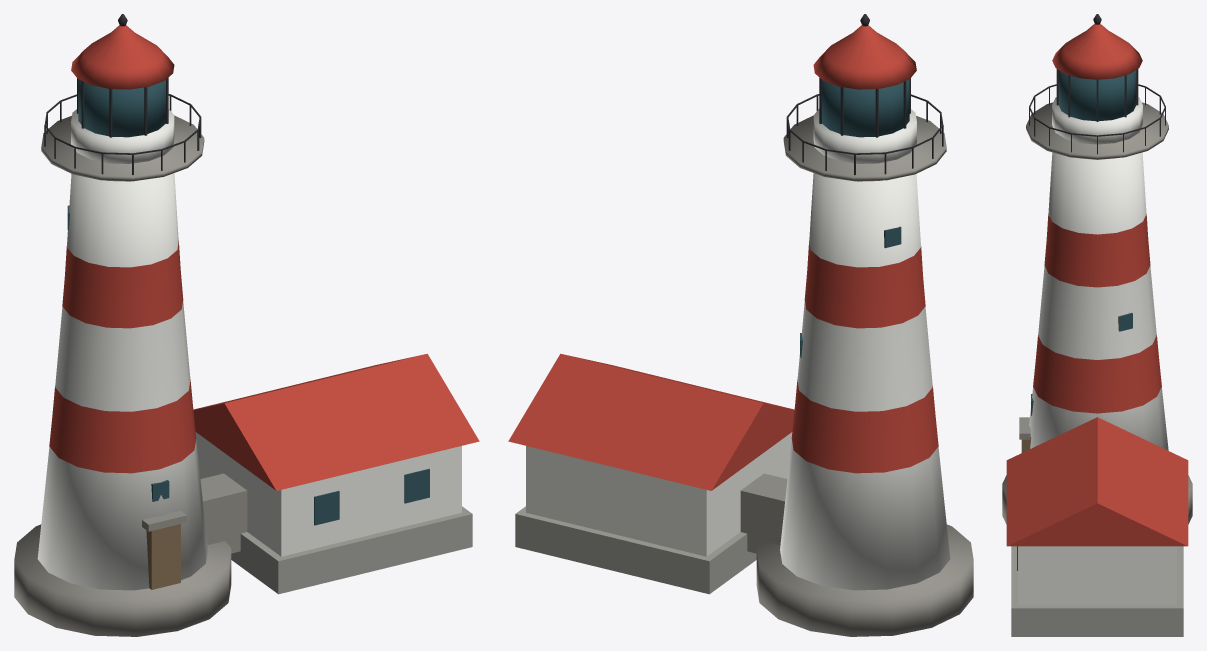
Rendered from palm-bay-lighthouse.glb.
3 views of the same model, side by side, from view 1: azimuth 30°, elevation 25°; view 2: azimuth 150°, elevation 25°; view 3: azimuth 270°, elevation 25° (orthographic). The views are drawn at different scales.
Visible parts, largest first — view 1: palm-bay-lighthouse: Palm Bay white, palm-bay-lighthouse: Palm Bay red, palm-bay-lighthouse: Palm Bay stone, palm-bay-lighthouse: Palm Bay concrete, palm-bay-lighthouse: Palm Bay glass, palm-bay-lighthouse: Palm Bay dark, palm-bay-lighthouse: Palm Bay wood; view 2: palm-bay-lighthouse: Palm Bay white, palm-bay-lighthouse: Palm Bay red, palm-bay-lighthouse: Palm Bay stone, palm-bay-lighthouse: Palm Bay concrete, palm-bay-lighthouse: Palm Bay glass, palm-bay-lighthouse: Palm Bay dark; view 3: palm-bay-lighthouse: Palm Bay red, palm-bay-lighthouse: Palm Bay white, palm-bay-lighthouse: Palm Bay concrete, palm-bay-lighthouse: Palm Bay stone, palm-bay-lighthouse: Palm Bay glass, palm-bay-lighthouse: Palm Bay dark.
Boxes of the visible parts, x1=… form: palm-bay-lighthouse: Palm Bay white: x1=37, y1=109, x2=461, y2=590; palm-bay-lighthouse: Palm Bay red: x1=49, y1=25, x2=479, y2=490; palm-bay-lighthouse: Palm Bay stone: x1=14, y1=115, x2=247, y2=636; palm-bay-lighthouse: Palm Bay concrete: x1=231, y1=506, x2=472, y2=594; palm-bay-lighthouse: Palm Bay glass: x1=67, y1=79, x2=429, y2=525; palm-bay-lighthouse: Palm Bay dark: x1=44, y1=14, x2=201, y2=174; palm-bay-lighthouse: Palm Bay wood: x1=146, y1=524, x2=180, y2=589; palm-bay-lighthouse: Palm Bay white: x1=526, y1=109, x2=950, y2=590; palm-bay-lighthouse: Palm Bay red: x1=508, y1=25, x2=938, y2=490; palm-bay-lighthouse: Palm Bay stone: x1=740, y1=115, x2=973, y2=636; palm-bay-lighthouse: Palm Bay concrete: x1=515, y1=506, x2=756, y2=594; palm-bay-lighthouse: Palm Bay glass: x1=800, y1=79, x2=909, y2=357; palm-bay-lighthouse: Palm Bay dark: x1=786, y1=14, x2=943, y2=174; palm-bay-lighthouse: Palm Bay red: x1=1006, y1=23, x2=1188, y2=546; palm-bay-lighthouse: Palm Bay white: x1=1018, y1=97, x2=1176, y2=605; palm-bay-lighthouse: Palm Bay concrete: x1=1011, y1=546, x2=1183, y2=636; palm-bay-lighthouse: Palm Bay stone: x1=1002, y1=102, x2=1192, y2=524; palm-bay-lighthouse: Palm Bay glass: x1=1017, y1=70, x2=1136, y2=570; palm-bay-lighthouse: Palm Bay dark: x1=1029, y1=14, x2=1165, y2=154.
Size of the model in its own units: 17.7 by 24.4 by 8.4.
